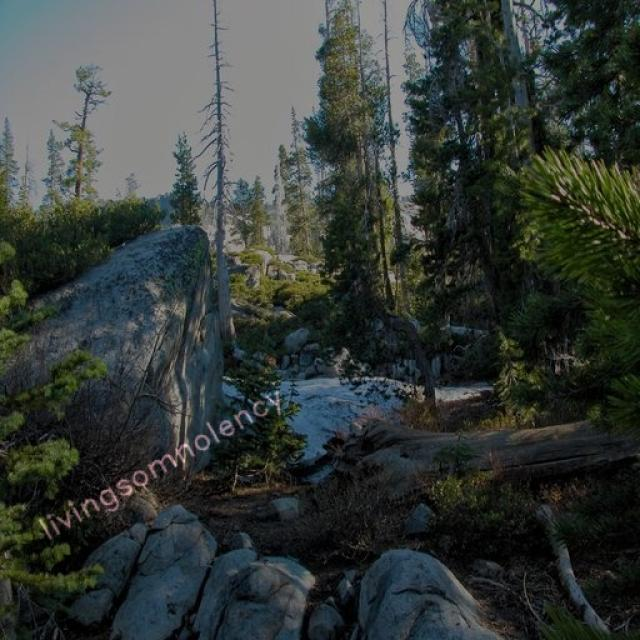watermark: (38, 378, 286, 546)
